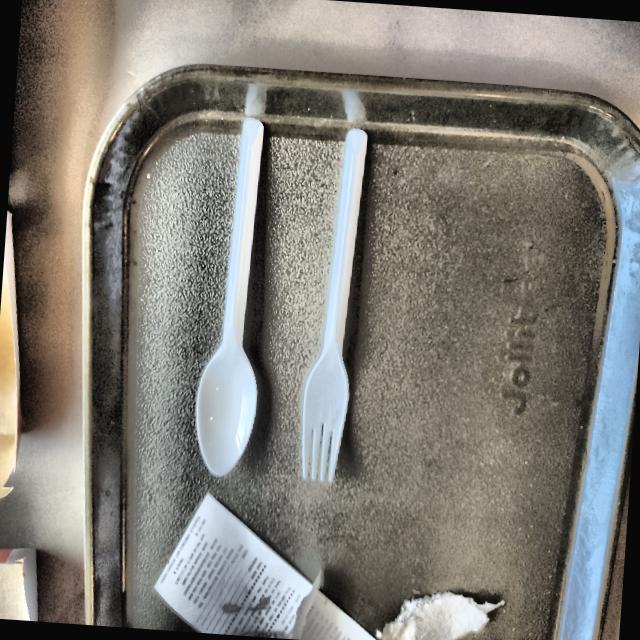plastic utensil: (195, 118, 263, 475), (301, 130, 367, 483)
